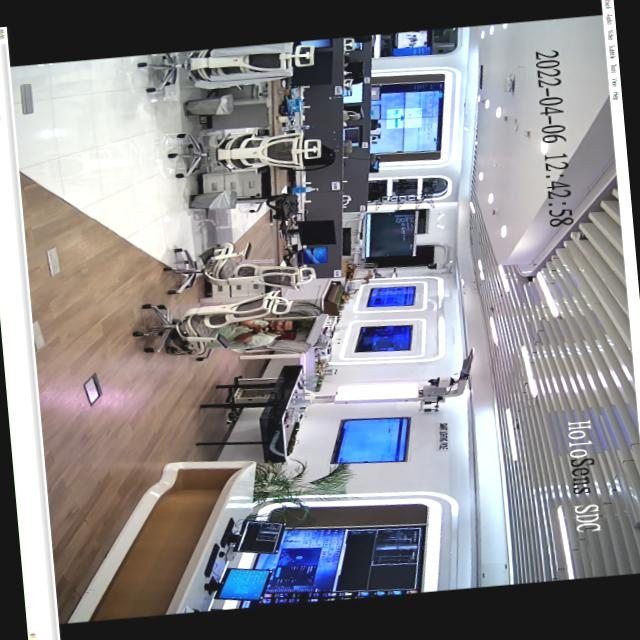long weapon: (242, 318, 286, 338)
